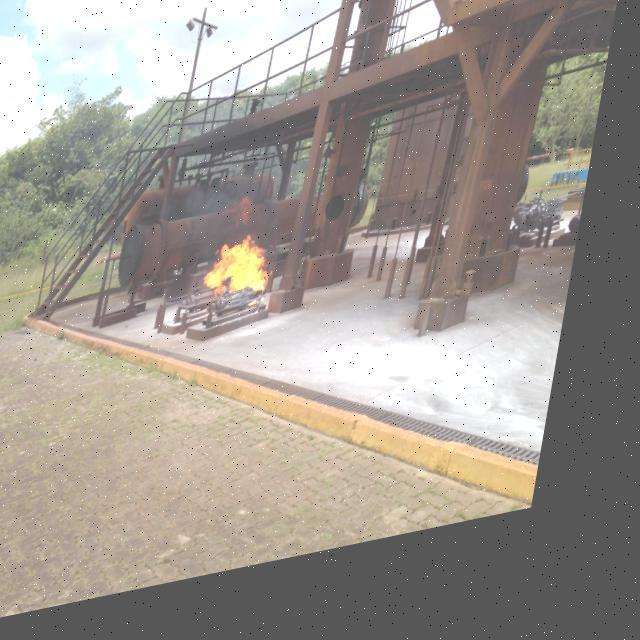Fire: (214, 243, 289, 331)
